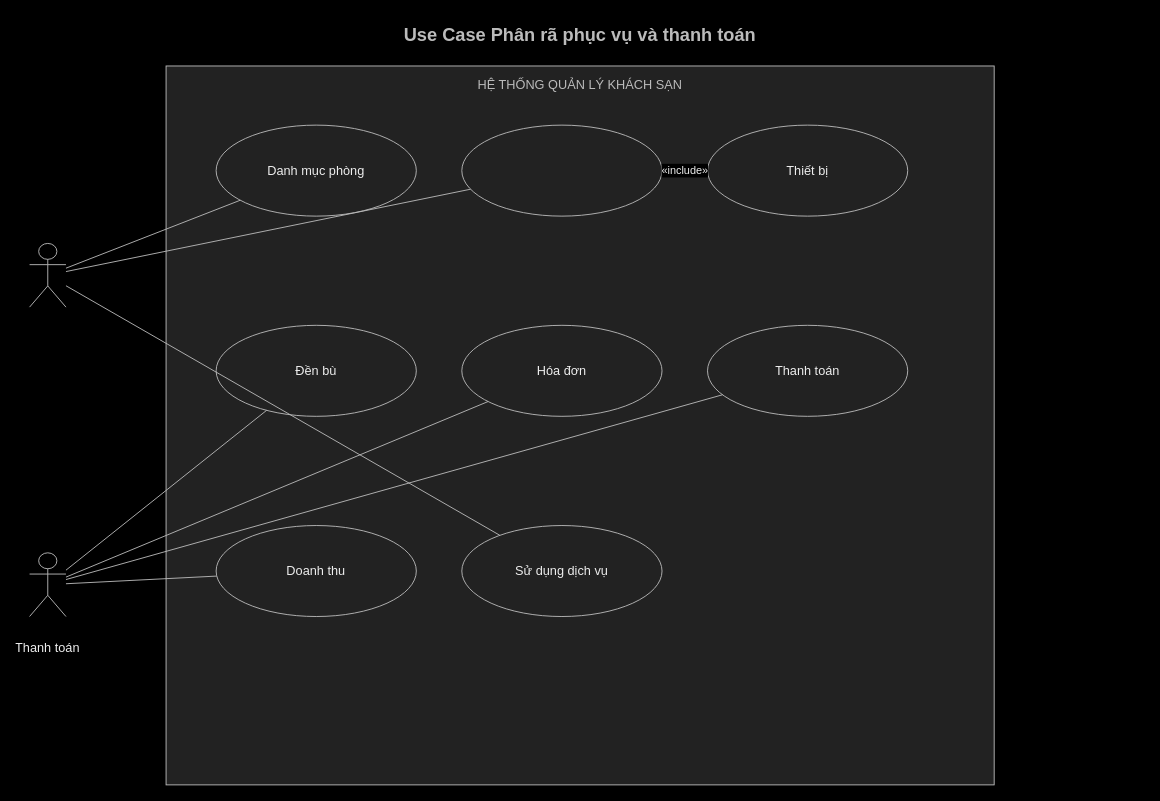
The diagram is 1160 pixels wide and 801 high, and some of its shapes have lost their labels. The shapes that lost their labels are listed below. From the top down, each one's box as (x1, y1, x2, y2) in pixels, then its label:
(461, 124, 662, 216): Lắp đặt
(29, 243, 66, 307): Phục vụ
